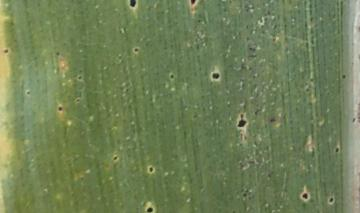tarspot: (300, 188, 313, 205), (237, 112, 248, 131), (209, 71, 223, 82), (110, 152, 121, 165), (127, 1, 139, 12), (147, 163, 157, 176), (266, 115, 279, 125), (144, 204, 157, 213), (326, 194, 336, 205), (167, 71, 178, 81), (54, 104, 66, 113), (131, 45, 141, 55), (23, 88, 33, 98), (240, 190, 250, 200), (332, 144, 341, 155), (339, 71, 348, 82), (1, 47, 11, 56), (75, 73, 85, 82), (73, 97, 83, 106), (189, 1, 199, 8)
